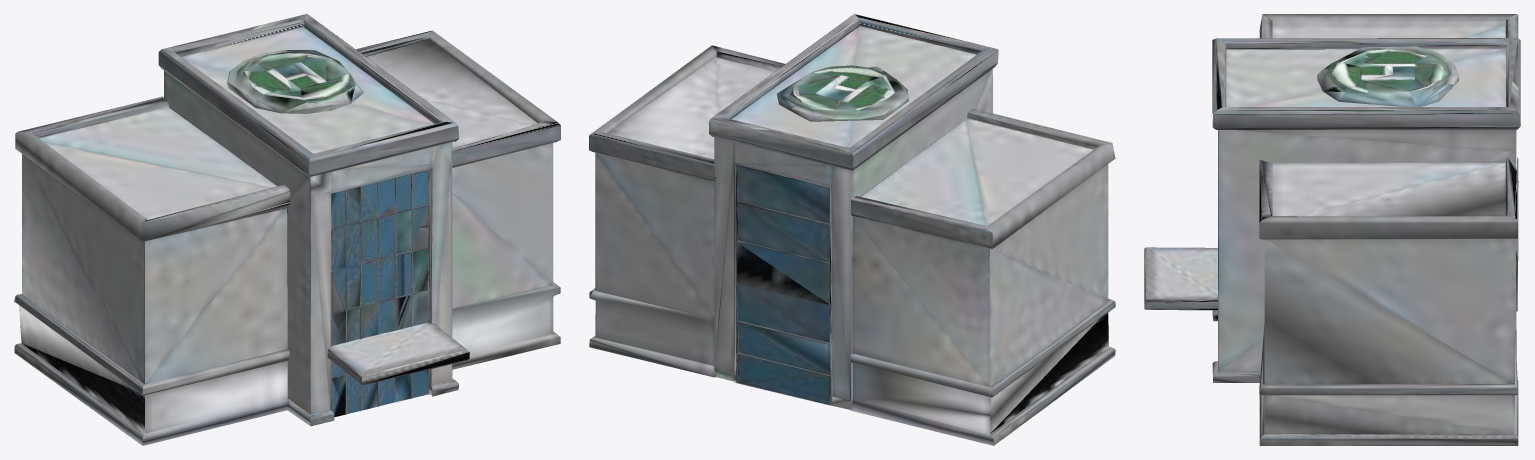
File: 30-hospital.glb
The picture shows the model from 3 angles, left to right: view 1: azimuth 30°, elevation 25°; view 2: azimuth 150°, elevation 25°; view 3: azimuth 270°, elevation 25°; orthographic projection. The views are drawn at different scales.
Visible parts, largest first — view 1: geometry_0; view 2: geometry_0; view 3: geometry_0.
Boxes of the visible parts, x1=… form: geometry_0: x1=14, y1=14, x2=560, y2=445; geometry_0: x1=589, y1=14, x2=1115, y2=445; geometry_0: x1=1144, y1=14, x2=1520, y2=445.
Size of the model in its own units: 0.9526 by 0.5884 by 0.7261.
Materials: 1 (1 with a texture image).
